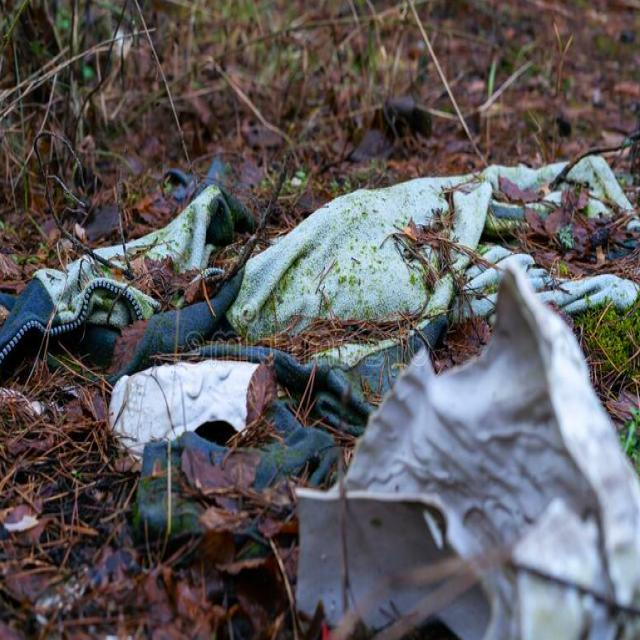clothes: (256, 147, 614, 344), (0, 178, 240, 387)
